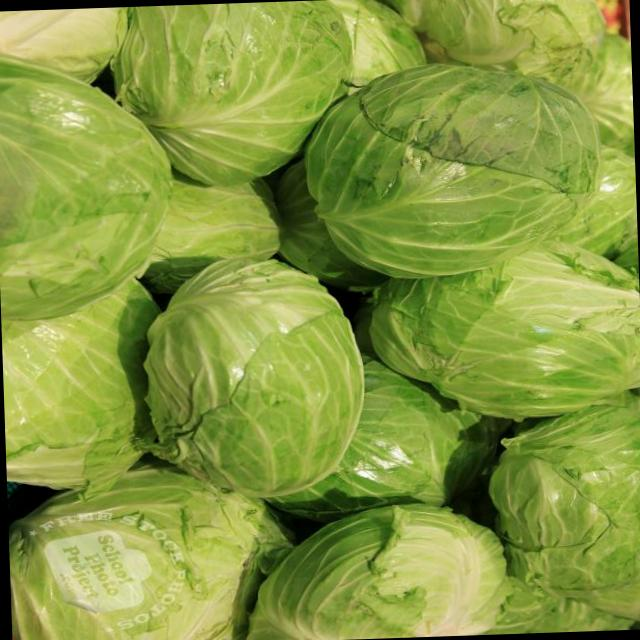cabbage: (306, 65, 594, 281), (122, 257, 366, 495)
